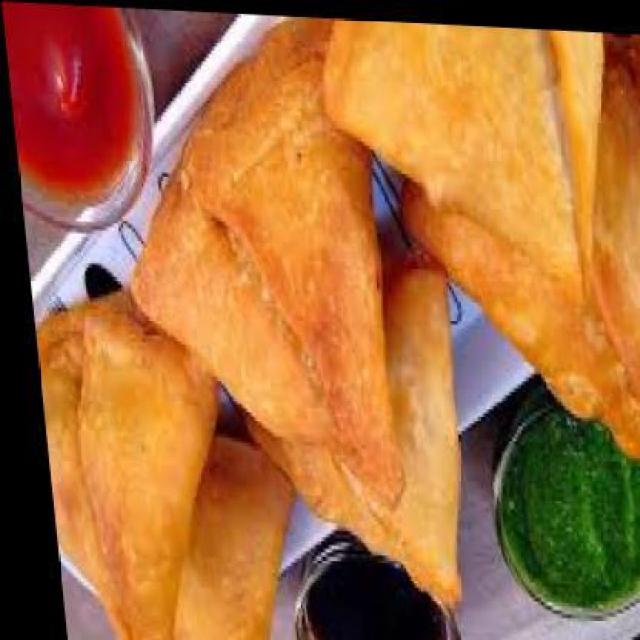samosa: (100, 5, 394, 506), (380, 16, 640, 487), (222, 232, 468, 603), (316, 12, 622, 292), (23, 283, 231, 640), (140, 424, 294, 640)
